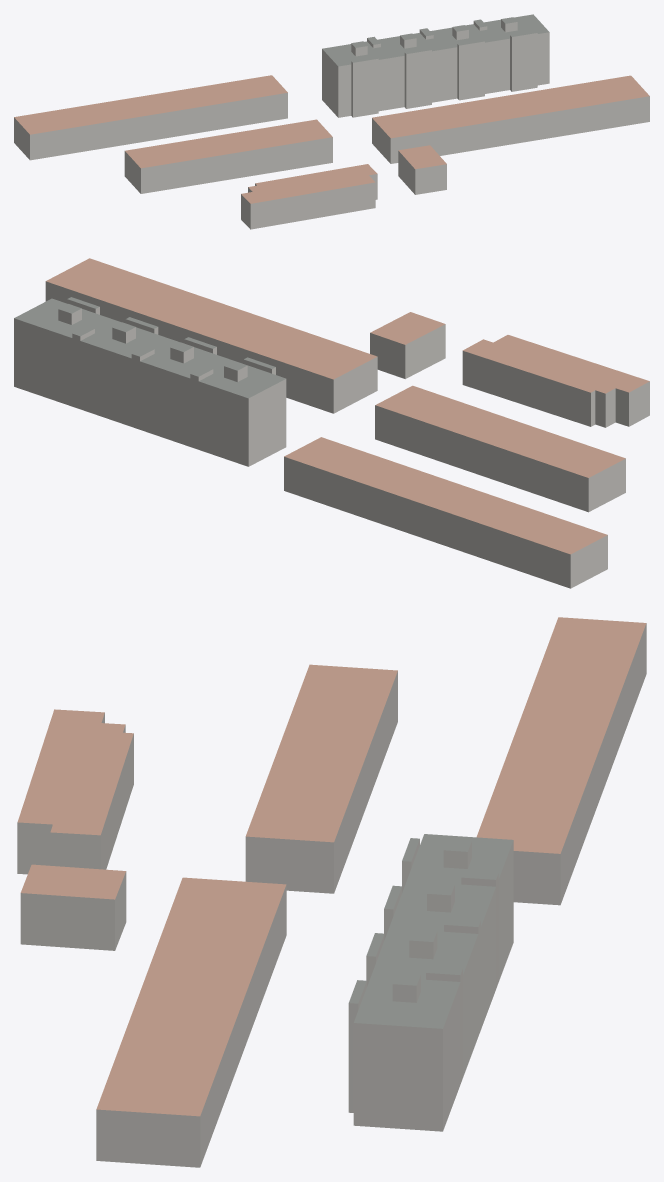
Rendered from gridID_106.dae.
The picture shows the model from 3 angles, top to bottom: view 1: azimuth 30°, elevation 25°; view 2: azimuth 150°, elevation 25°; view 3: azimuth 270°, elevation 25°; orthographic projection. The views are drawn at different scales.
Parts seen in each view (by area): view 1: model_gridID_106_w387303596, model_gridID_106_w376400921, model_gridID_106_w376400920, model_gridID_106_w376400926, model_gridID_106_w376400916_001, model_gridID_106_w376400921_001, model_gridID_106_w376400916; view 2: model_gridID_106_w387303596, model_gridID_106_w376400920, model_gridID_106_w376400921, model_gridID_106_w376400926, model_gridID_106_w376400916, model_gridID_106_w376400916_001, model_gridID_106_w376400921_001; view 3: model_gridID_106_w387303596, model_gridID_106_w376400921, model_gridID_106_w376400920, model_gridID_106_w376400926, model_gridID_106_w376400916_001, model_gridID_106_w376400921_001, model_gridID_106_w376400916.
Boxes of the visible parts, bbox=[...] form: model_gridID_106_w387303596: bbox=[322, 14, 549, 117]; model_gridID_106_w376400921: bbox=[372, 75, 649, 163]; model_gridID_106_w376400920: bbox=[14, 75, 287, 160]; model_gridID_106_w376400926: bbox=[124, 119, 332, 193]; model_gridID_106_w376400916_001: bbox=[241, 169, 375, 229]; model_gridID_106_w376400921_001: bbox=[398, 145, 446, 194]; model_gridID_106_w376400916: bbox=[255, 164, 377, 199]; model_gridID_106_w387303596: bbox=[14, 297, 286, 466]; model_gridID_106_w376400920: bbox=[284, 437, 607, 588]; model_gridID_106_w376400921: bbox=[45, 258, 377, 413]; model_gridID_106_w376400926: bbox=[375, 385, 625, 512]; model_gridID_106_w376400916: bbox=[462, 339, 602, 426]; model_gridID_106_w376400916_001: bbox=[489, 335, 649, 427]; model_gridID_106_w376400921_001: bbox=[370, 312, 445, 378]; model_gridID_106_w387303596: bbox=[348, 834, 513, 1131]; model_gridID_106_w376400921: bbox=[96, 877, 286, 1167]; model_gridID_106_w376400920: bbox=[476, 617, 646, 905]; model_gridID_106_w376400926: bbox=[245, 664, 397, 893]; model_gridID_106_w376400916_001: bbox=[17, 709, 125, 874]; model_gridID_106_w376400921_001: bbox=[20, 864, 126, 950]; model_gridID_106_w376400916: bbox=[50, 731, 133, 869].
Bounding box in the file's own units: 156 × 83.19 × 17.5.
